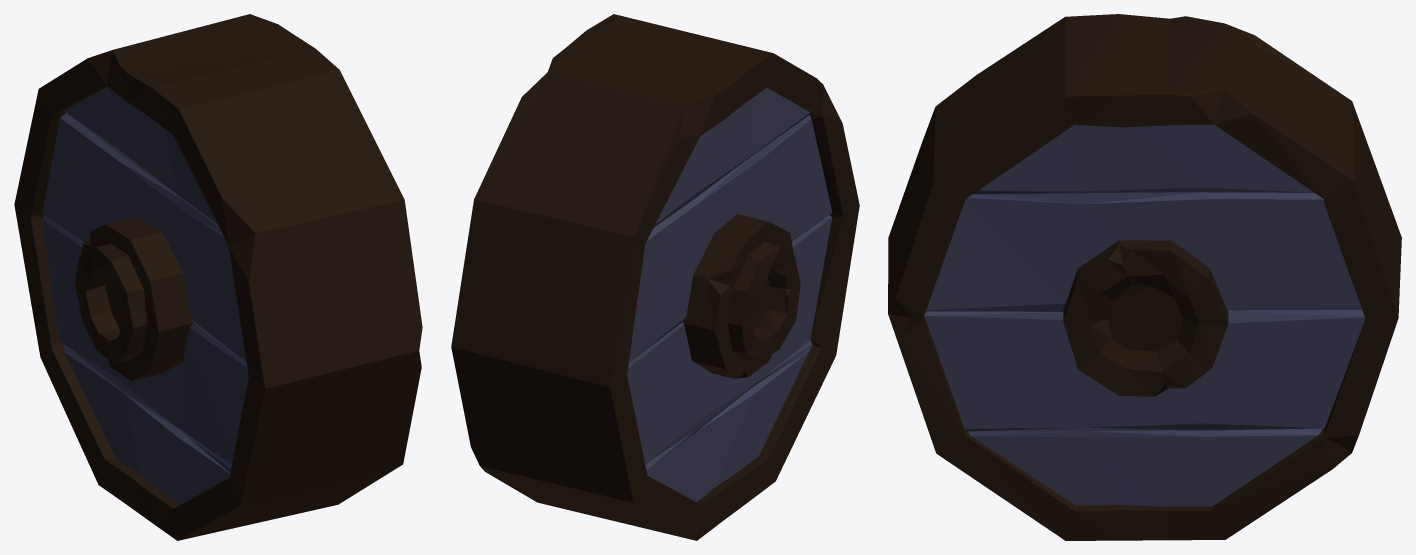
The model's file is SFFA_Wheel_001.fbx.
The picture shows the model from 3 angles, left to right: view 1: azimuth 30°, elevation 25°; view 2: azimuth 150°, elevation 25°; view 3: azimuth 270°, elevation 25°; orthographic projection. The views are drawn at different scales.
Visible parts, largest first — view 1: SFFA_Wheel_001; view 2: SFFA_Wheel_001; view 3: SFFA_Wheel_001.
Boxes of the visible parts, x1,y1,x2,y2 form: SFFA_Wheel_001: (14, 14, 422, 540); SFFA_Wheel_001: (451, 14, 859, 540); SFFA_Wheel_001: (888, 14, 1401, 540).
Bounding box in the file's own units: 19.05 × 37.33 × 38.9.
